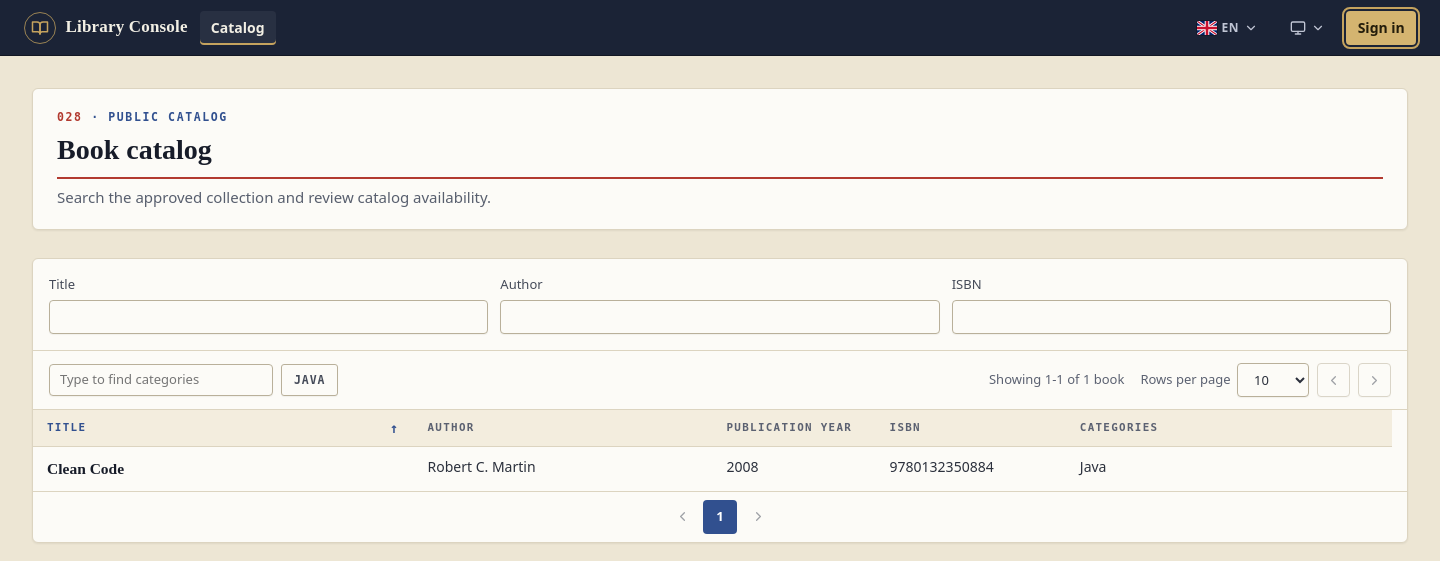
App › bootstraps the browser session and keeps diagnostics in session details
The image size is (1440, 561).
Check: the heading "Book catalog" is shown, box left=57, top=134, right=1383, bottom=179
Check: the text "Workspace" is not shown
Click the button "Sign in" at [1381, 28], box left=1346, top=10, right=1416, bottom=44
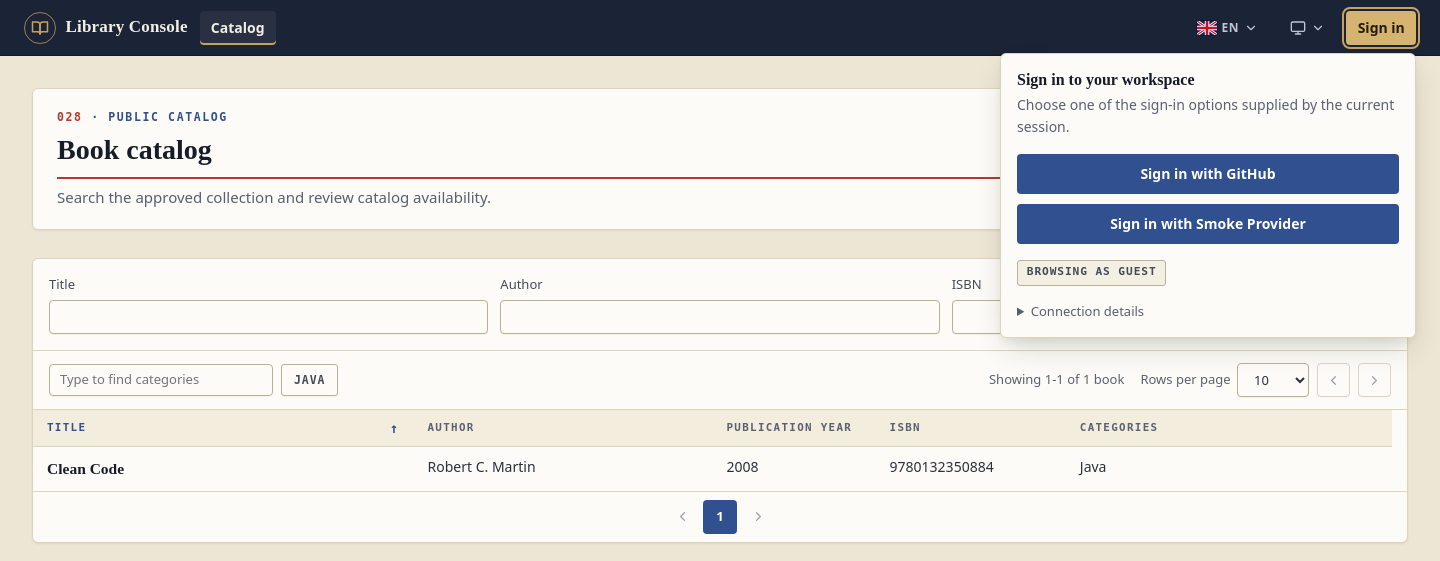
Check: the text "Browsing as guest" is shown, box left=1017, top=260, right=1166, bottom=286
